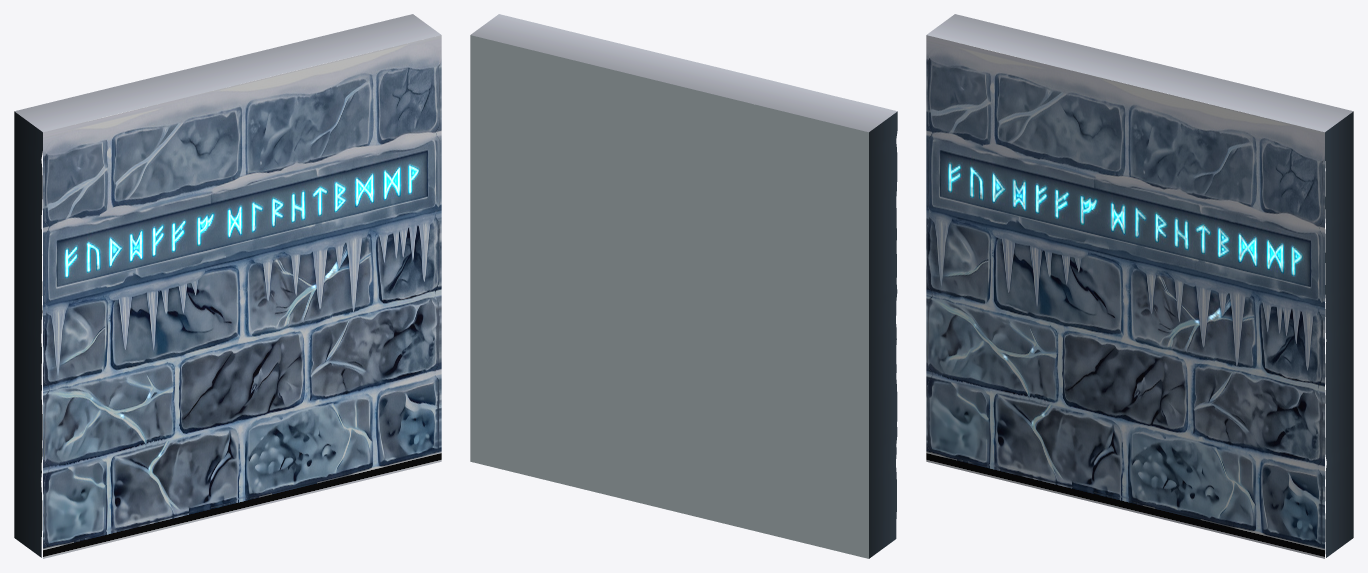
File: wall_frost.glb
3 views of the same model, side by side, from view 1: azimuth 30°, elevation 25°; view 2: azimuth 150°, elevation 25°; view 3: azimuth 330°, elevation 25° (orthographic).
Visible parts, largest first — view 1: wall_frost; view 2: wall_frost; view 3: wall_frost.
Boxes of the visible parts, x1=… form: wall_frost: x1=14, y1=14, x2=441, y2=558; wall_frost: x1=470, y1=14, x2=897, y2=558; wall_frost: x1=926, y1=14, x2=1353, y2=558.
Size of the model in its own units: 2 by 2.05 by 0.25.
1 material, 1 textured.
